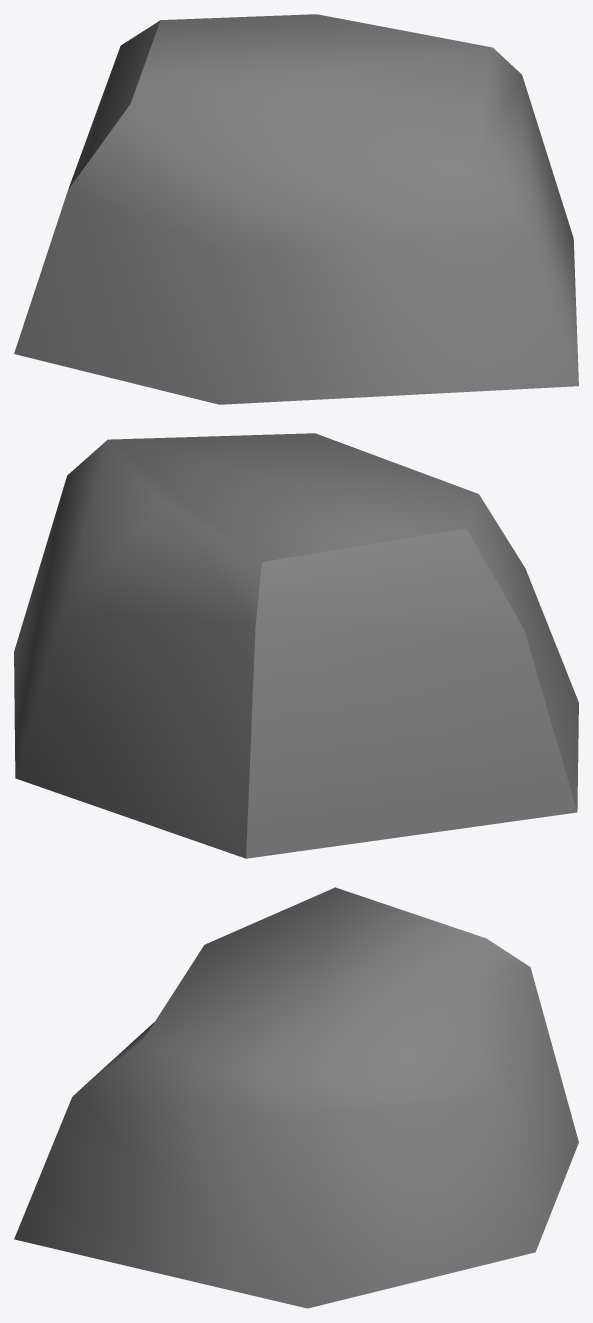
File: shi02.FBX
3 renders of one model, top to bottom at view 1: azimuth 30°, elevation 25°; view 2: azimuth 150°, elevation 25°; view 3: azimuth 270°, elevation 25°, orthographic. The views are drawn at different scales.
Parts seen in each view (by area): view 1: shi02; view 2: shi02; view 3: shi02.
Part boxes in pixels (left/top/right/bottom): shi02: left=14, top=14, right=578, bottom=404; shi02: left=14, top=433, right=578, bottom=858; shi02: left=14, top=887, right=578, bottom=1308.
Bounding box in the file's own units: 37.3 × 15.14 × 35.26.
